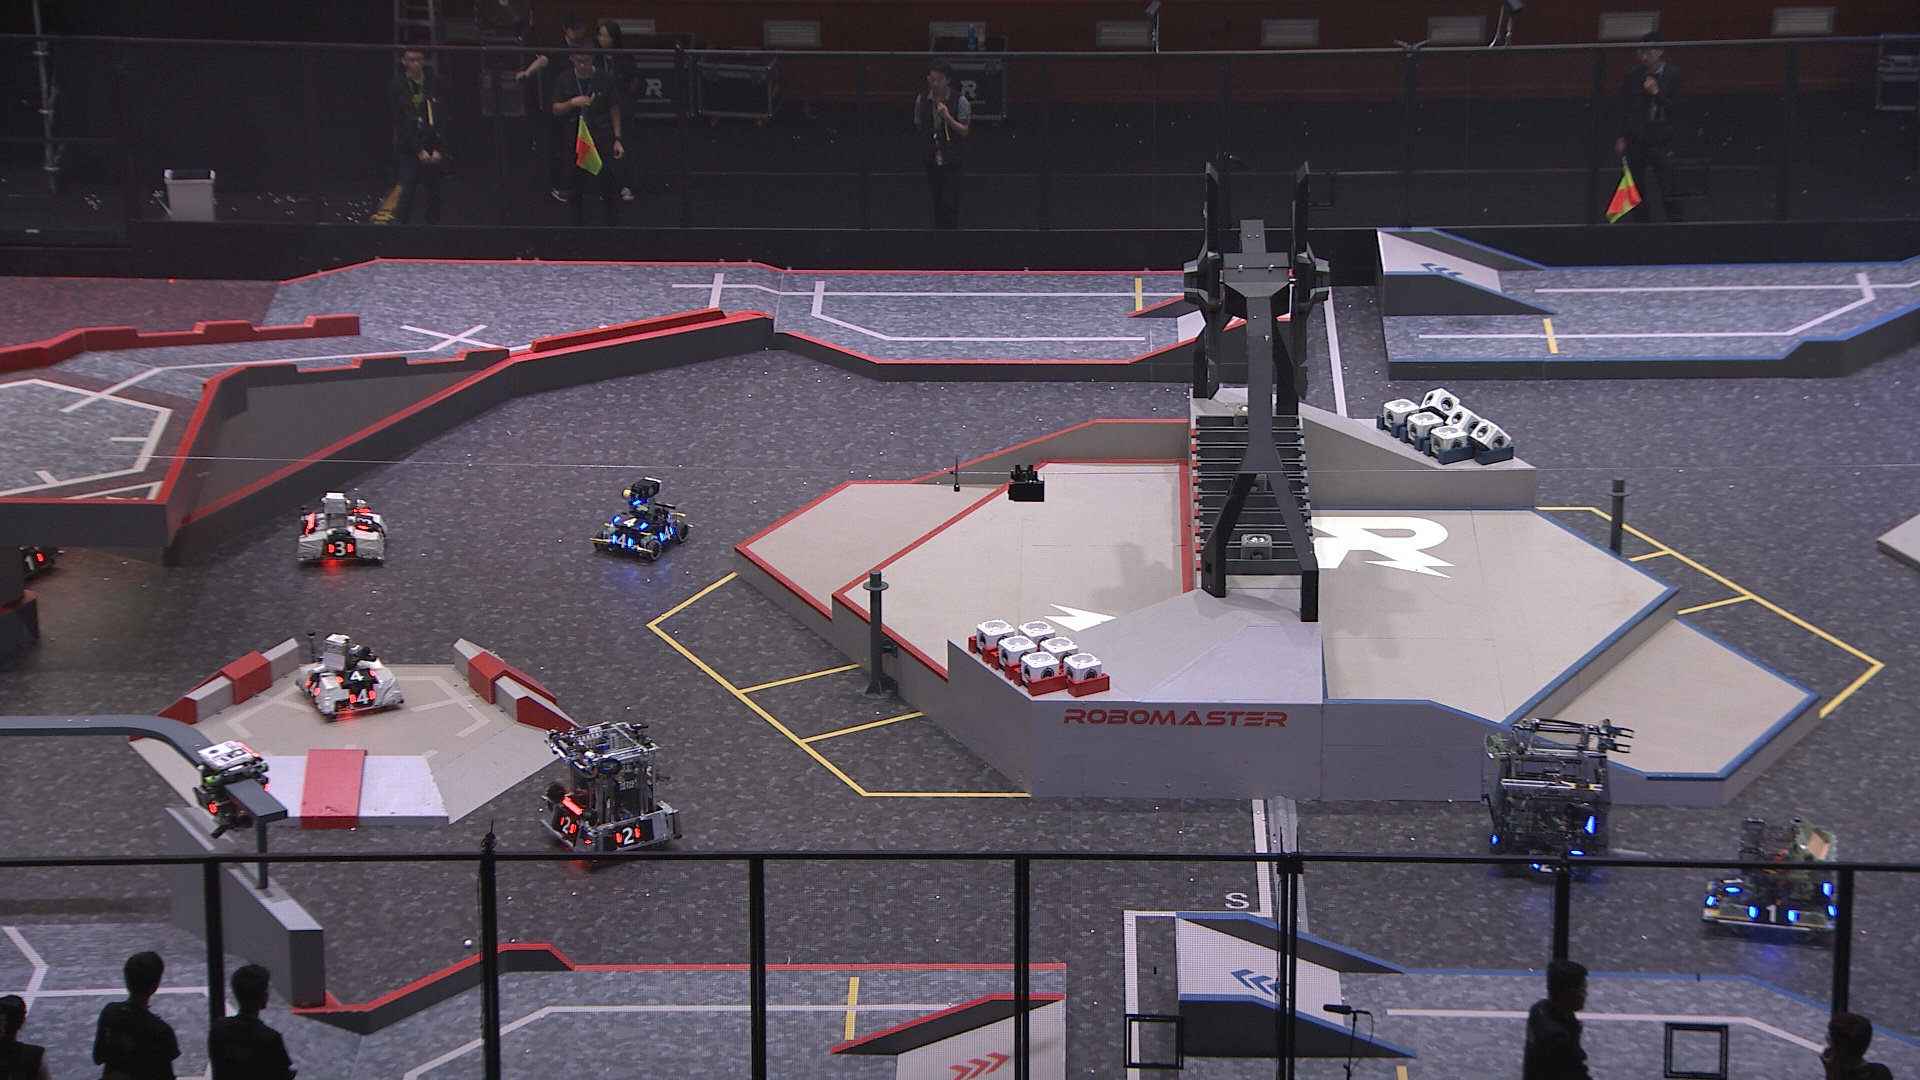armor: (191, 782, 225, 818), (1747, 901, 1795, 924), (1528, 847, 1564, 873), (332, 665, 377, 684), (16, 549, 46, 578), (611, 825, 644, 849), (324, 537, 357, 560), (609, 512, 646, 531), (345, 684, 376, 708), (553, 814, 580, 837), (609, 529, 637, 550), (351, 510, 376, 533), (1718, 873, 1743, 894), (655, 524, 678, 546), (302, 674, 320, 698)
car: (535, 717, 684, 872), (1480, 717, 1617, 880), (1702, 808, 1840, 940), (295, 626, 404, 719), (589, 472, 694, 566), (294, 488, 386, 571)
watcher: (189, 731, 272, 839)
